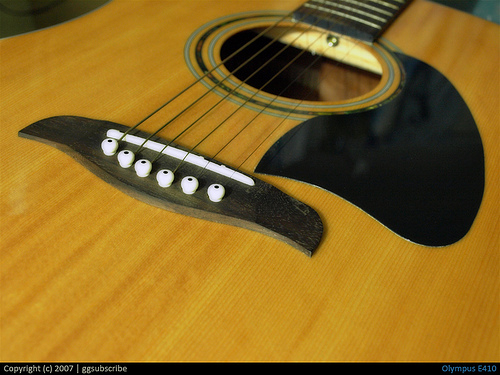guitar: (1, 1, 500, 362)
